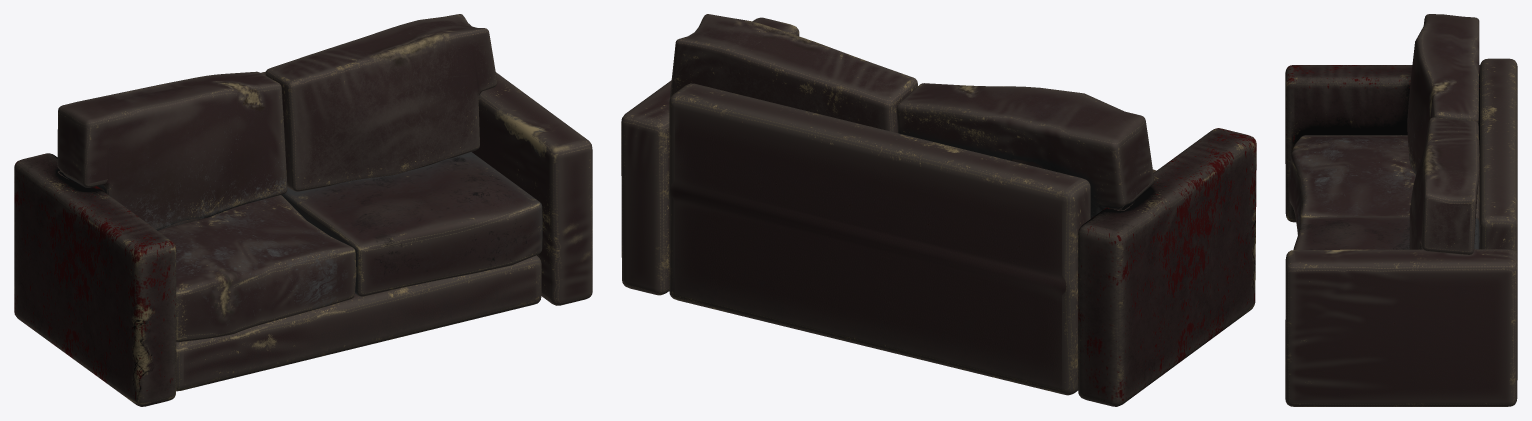
Rendered from OldSofa.glb.
The picture shows the model from 3 angles, left to right: view 1: azimuth 30°, elevation 25°; view 2: azimuth 150°, elevation 25°; view 3: azimuth 270°, elevation 25°; orthographic projection. The views are drawn at different scales.
Visible parts, largest first — view 1: Box001; view 2: Box001; view 3: Box001.
Part boxes in pixels (<box>): Box001: <box>14,14,592,406</box>; Box001: <box>621,14,1256,406</box>; Box001: <box>1285,14,1517,406</box>.
Bounding box in the file's own units: 2.77 × 1.33 × 1.34.
Materials: 7 (7 with a texture image).
